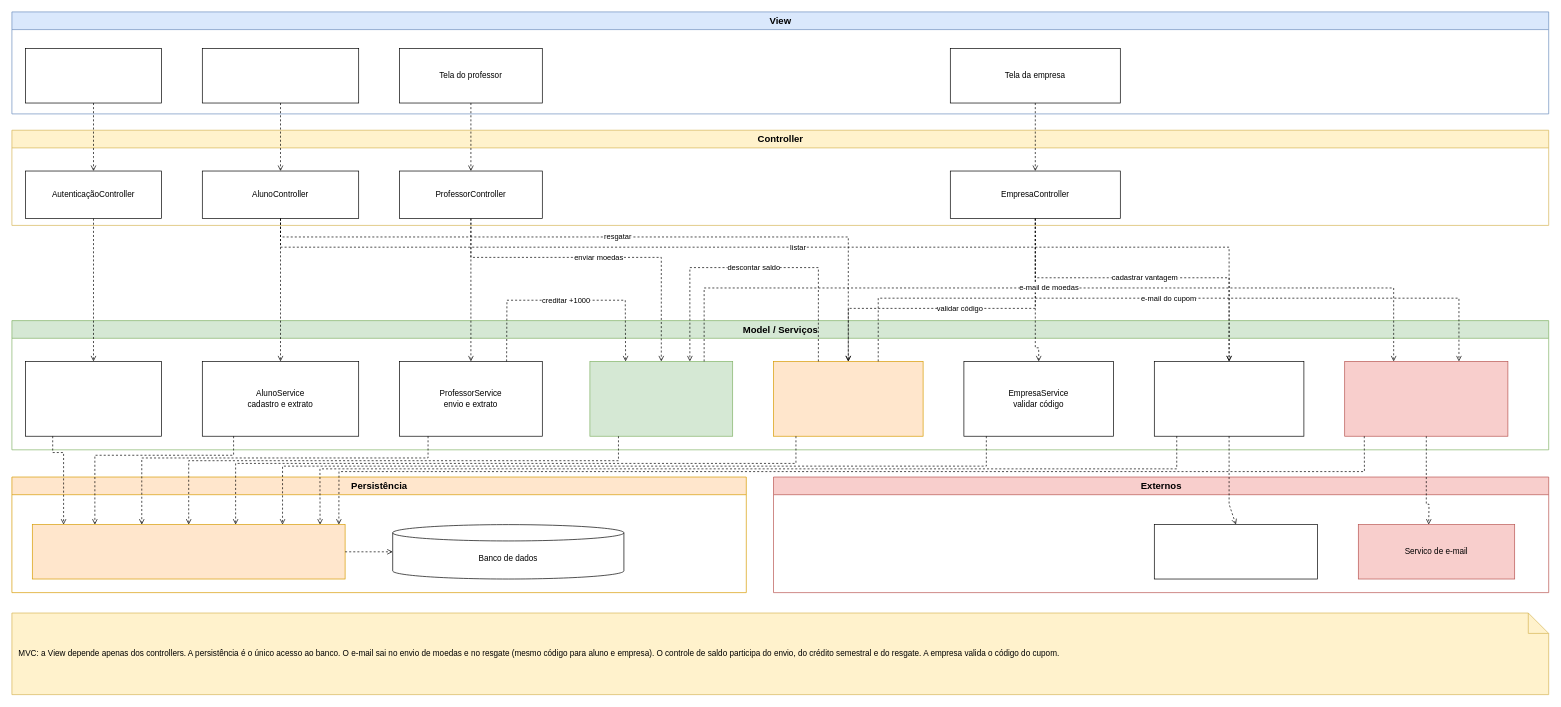
Image size: 1561x707. Some labels were removed from this diagram. The centre of each missing label's shape, as x and y in pixels:
"Armazenamento de fotos" goes at pixel 1236 551.
"AutenticaçãoService login e senha" goes at pixel 93 398.
"MoedaService saldo e credito +1000" goes at pixel 661 398.
"NotificaçãoService e-mail de moedas e cupom" goes at pixel 1426 398.
"Repositórios único acesso aos dados" goes at pixel 188 551.
"ResgateService cupom único" goes at pixel 848 398.
"Tela de login" goes at pixel 93 75.
"Tela do aluno" goes at pixel 280 75.
"VantagemService descricao, foto, custo" goes at pixel 1229 398.
